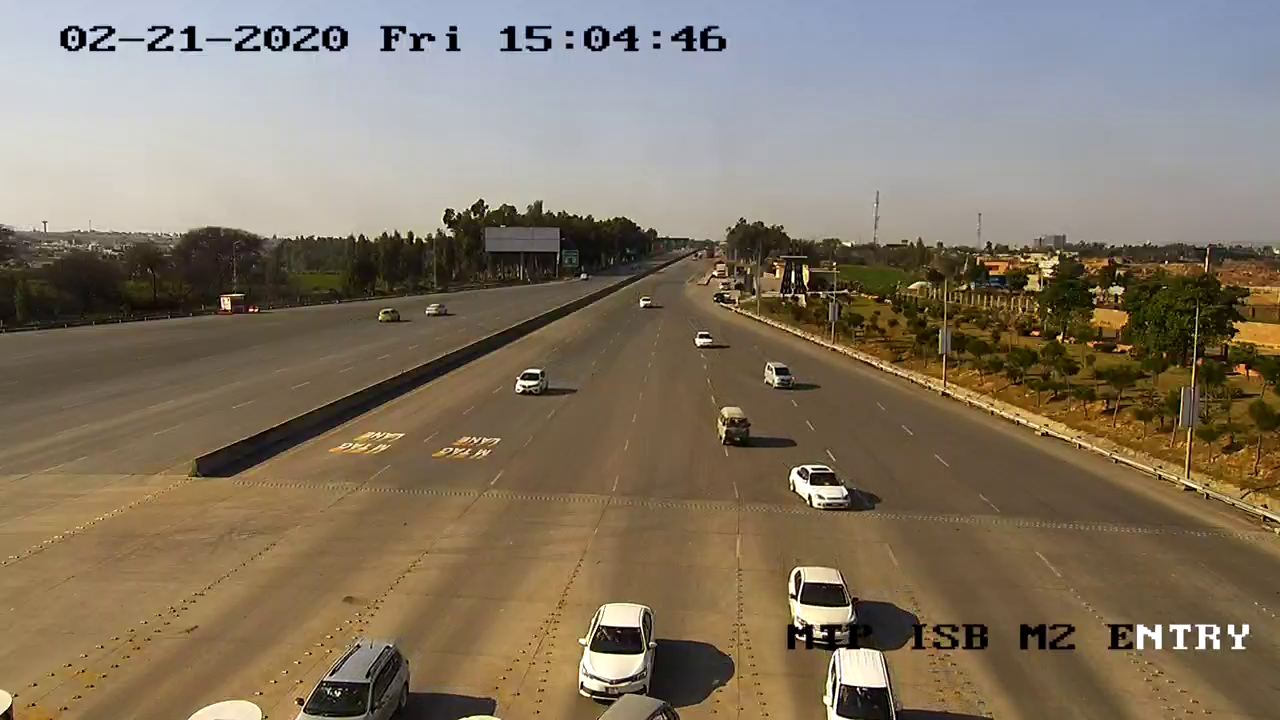f1: (576, 600, 653, 697), (792, 457, 847, 518), (714, 404, 760, 444)
